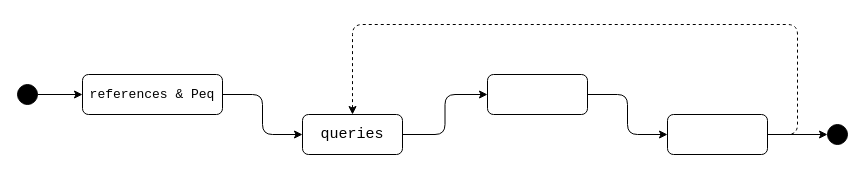
This 865x176 diagram has some shape labels left out. The shapes that lost their labels are listed below. From the top down, each one's centre as x and y in pixels, then its label:
the point at 537,94: Myers
the point at 717,134: Results
